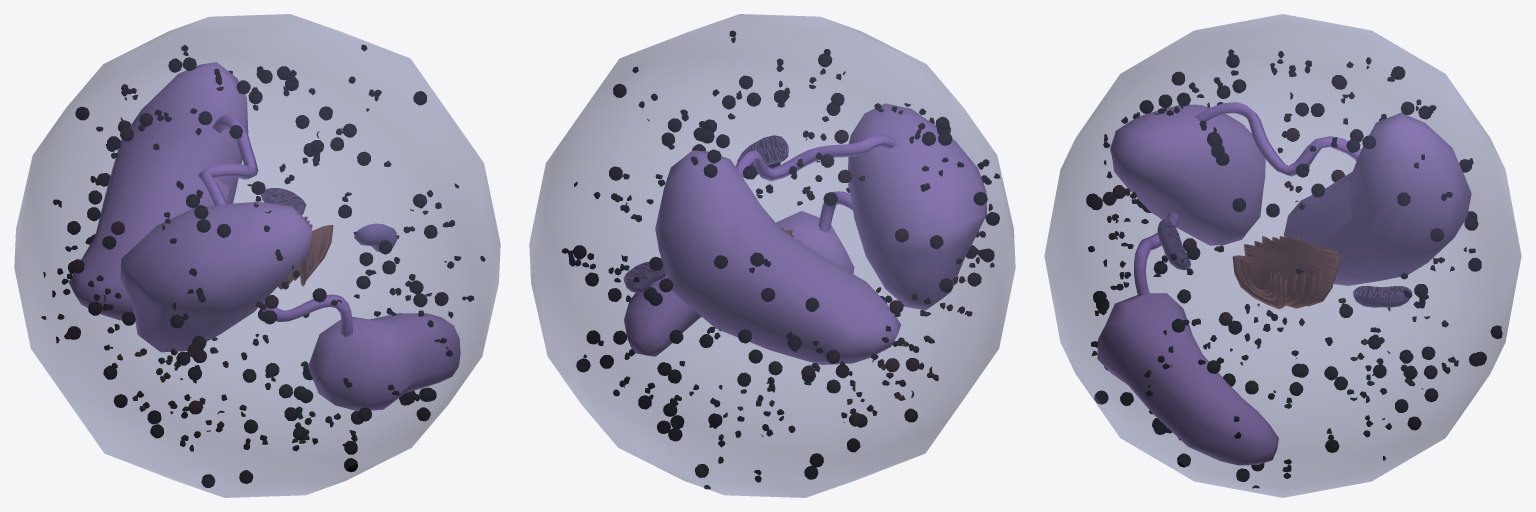
The model's file is neutrophil-final.glb.
The picture shows the model from 3 angles, left to right: view 1: azimuth 30°, elevation 25°; view 2: azimuth 150°, elevation 25°; view 3: azimuth 270°, elevation 25°; orthographic projection.
Visible parts, largest first — view 1: plasma_membrane_render, nucleus_2, nucleus_3, ribosomes, nucleus_1, primary_granules, secondary_gr, chromatin_2, chromatin_1, mito_outer, mito_inner, polySurface7; view 2: plasma_membrane_render, nucleus_3, nucleus_2, ribosomes, nucleus_1, primary_granules, secondary_gr, chromatin_2, mito_inner (×2), chromatin_1; view 3: plasma_membrane_render, nucleus_3, nucleus_1, nucleus_2, ribosomes, primary_granules, secondary_gr, chromatin_2, mito_inner (×2), chromatin_1, polySurface7, polySurface12 (+4 smaller).
Part boxes in pixels (x1=…): plasma_membrane_render: x1=14, y1=14, x2=500, y2=497; nucleus_2: x1=120, y1=201, x2=312, y2=352; nucleus_3: x1=69, y1=62, x2=248, y2=320; ribosomes: x1=67, y1=57, x2=448, y2=487; nucleus_1: x1=308, y1=313, x2=460, y2=411; primary_granules: x1=53, y1=45, x2=474, y2=451; secondary_gr: x1=41, y1=44, x2=485, y2=451; chromatin_2: x1=198, y1=115, x2=258, y2=205; chromatin_1: x1=262, y1=294, x2=352, y2=336; mito_outer: x1=354, y1=224, x2=396, y2=251; mito_inner: x1=263, y1=188, x2=304, y2=211; polySurface7: x1=299, y1=225, x2=333, y2=286; plasma_membrane_render: x1=529, y1=14, x2=1015, y2=497; nucleus_3: x1=655, y1=150, x2=900, y2=364; nucleus_2: x1=848, y1=103, x2=986, y2=310; ribosomes: x1=573, y1=53, x2=999, y2=479; nucleus_1: x1=624, y1=211, x2=854, y2=356; primary_granules: x1=561, y1=30, x2=991, y2=482; secondary_gr: x1=568, y1=37, x2=1000, y2=489; chromatin_2: x1=735, y1=134, x2=897, y2=181; mito_inner (×2): x1=625, y1=136, x2=786, y2=285; chromatin_1: x1=818, y1=191, x2=852, y2=232; plasma_membrane_render: x1=1044, y1=14, x2=1521, y2=497; nucleus_3: x1=1284, y1=113, x2=1471, y2=285; nucleus_1: x1=1097, y1=293, x2=1278, y2=465; nucleus_2: x1=1110, y1=104, x2=1265, y2=245; ribosomes: x1=1086, y1=54, x2=1502, y2=481; primary_granules: x1=1088, y1=49, x2=1475, y2=478; secondary_gr: x1=1091, y1=59, x2=1473, y2=488; chromatin_2: x1=1195, y1=102, x2=1361, y2=176; mito_inner (×2): x1=1163, y1=219, x2=1410, y2=299; chromatin_1: x1=1134, y1=211, x2=1178, y2=296; polySurface7: x1=1232, y1=255, x2=1287, y2=309; polySurface12: x1=1262, y1=236, x2=1335, y2=306.
Size of what is drawn, in the model's own units: 17.49 by 17.49 by 17.49.
7 materials, 4 textured.
